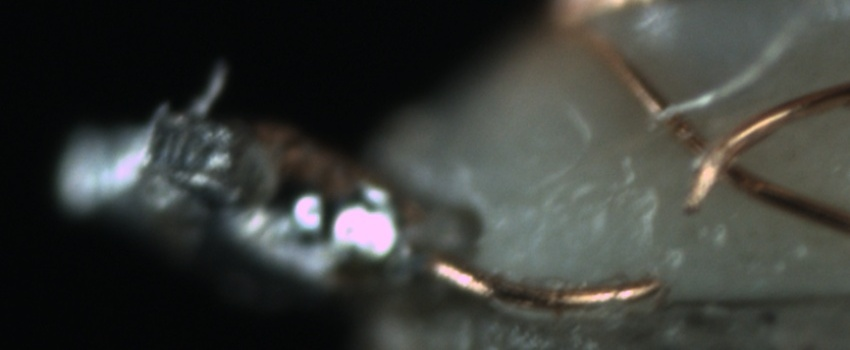CL: (677, 99, 777, 210)
